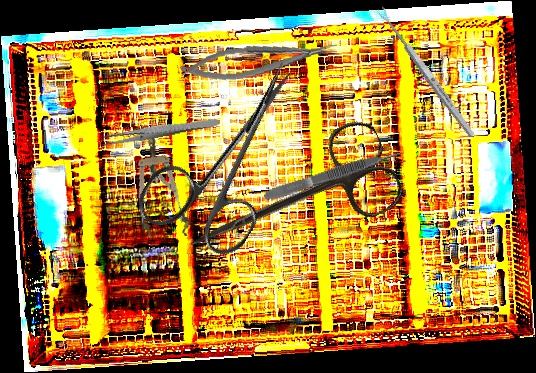Dressing Forceps: (99, 114, 221, 148)
Iris Scissors: (130, 34, 335, 270), (172, 114, 409, 292)
Needle Holder: (178, 36, 340, 86)
Speculum: (127, 125, 192, 243)
Surgical Spoon: (375, 5, 477, 139)
Tissue Forceps: (262, 147, 405, 203)
